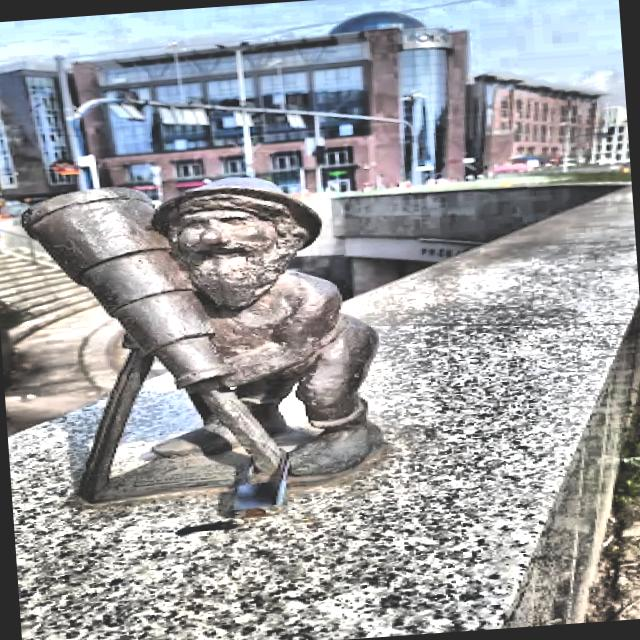Lunetyk: (19, 180, 384, 503)
